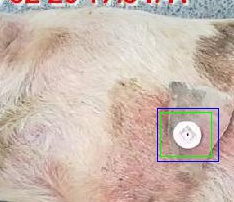text: (160, 112, 211, 156)
